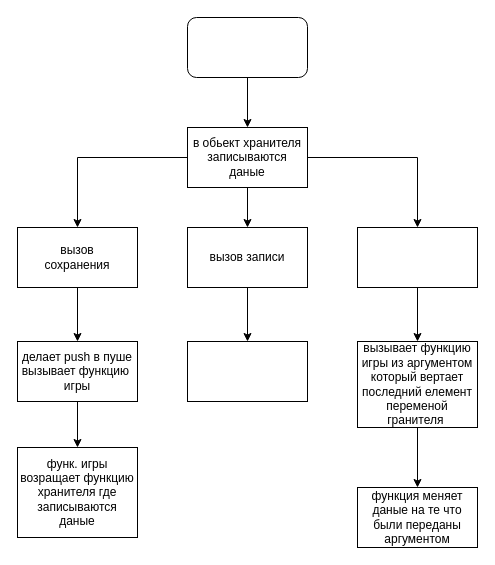
Some shapes in this 495 by 565 pixel diagram are drawn without their labels. Here are the shapes that lost their labels. From the top down, the box of each, then its label:
(186, 16, 308, 78): запуск
(356, 226, 478, 288): вызов отката "load"
(186, 340, 308, 402): вызывается функция записи или каких либо действий
